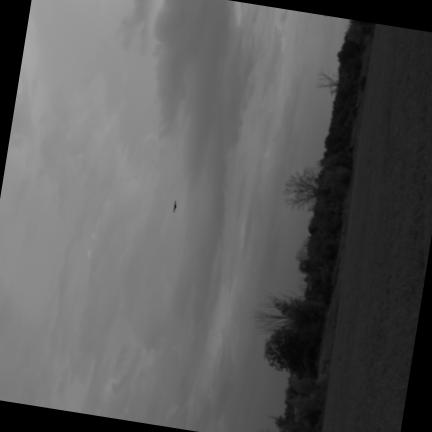Shahed: (174, 201, 177, 211)
